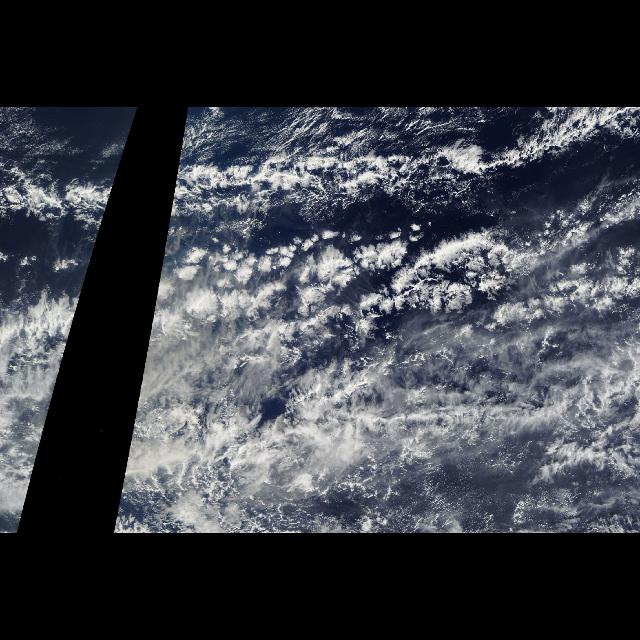Fish: (169, 108, 621, 228), (0, 108, 138, 228)
